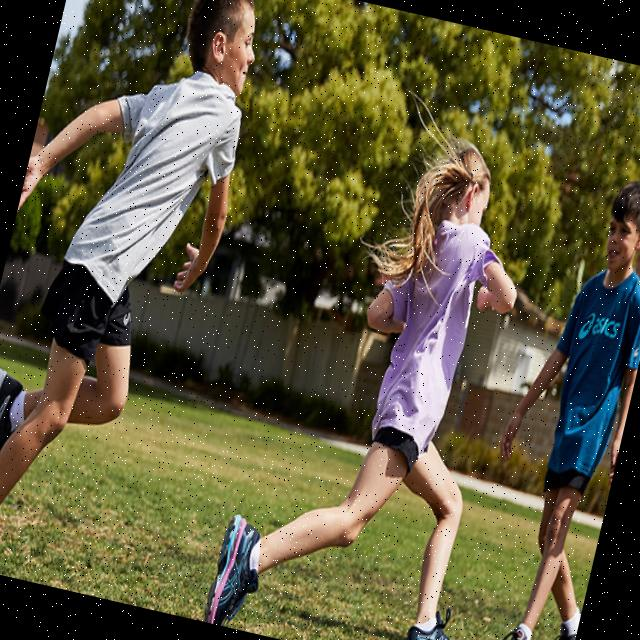Person: (203, 106, 581, 640), (0, 0, 280, 606), (447, 162, 640, 640)
